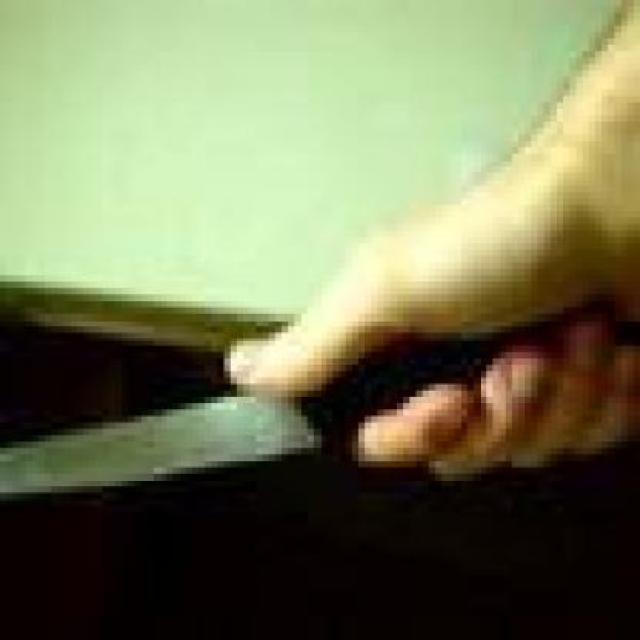knife: (4, 309, 634, 497)
